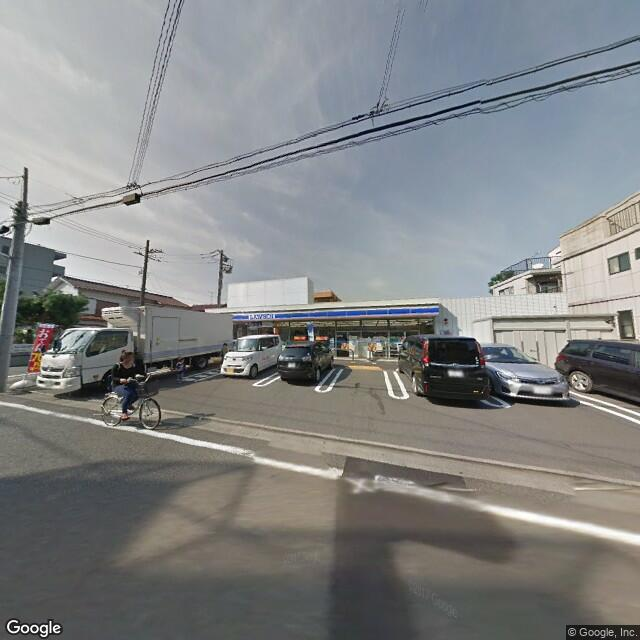lawson: (230, 302, 442, 325)
